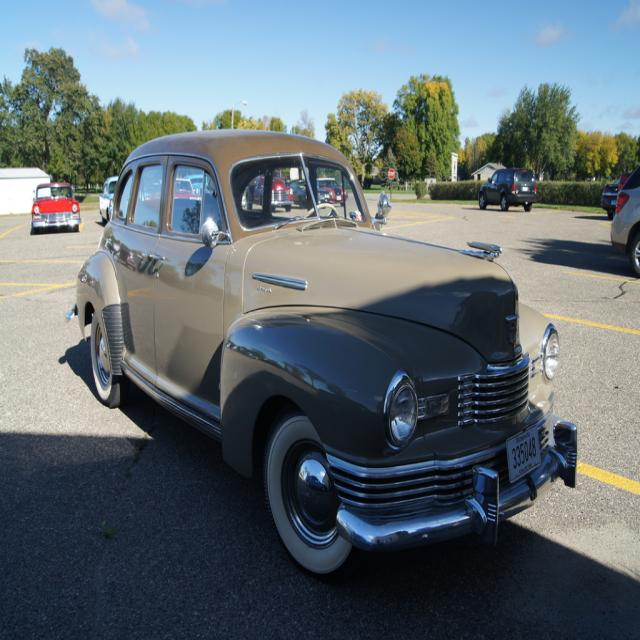car: (67, 135, 545, 574), (476, 168, 535, 211), (30, 180, 76, 229)
